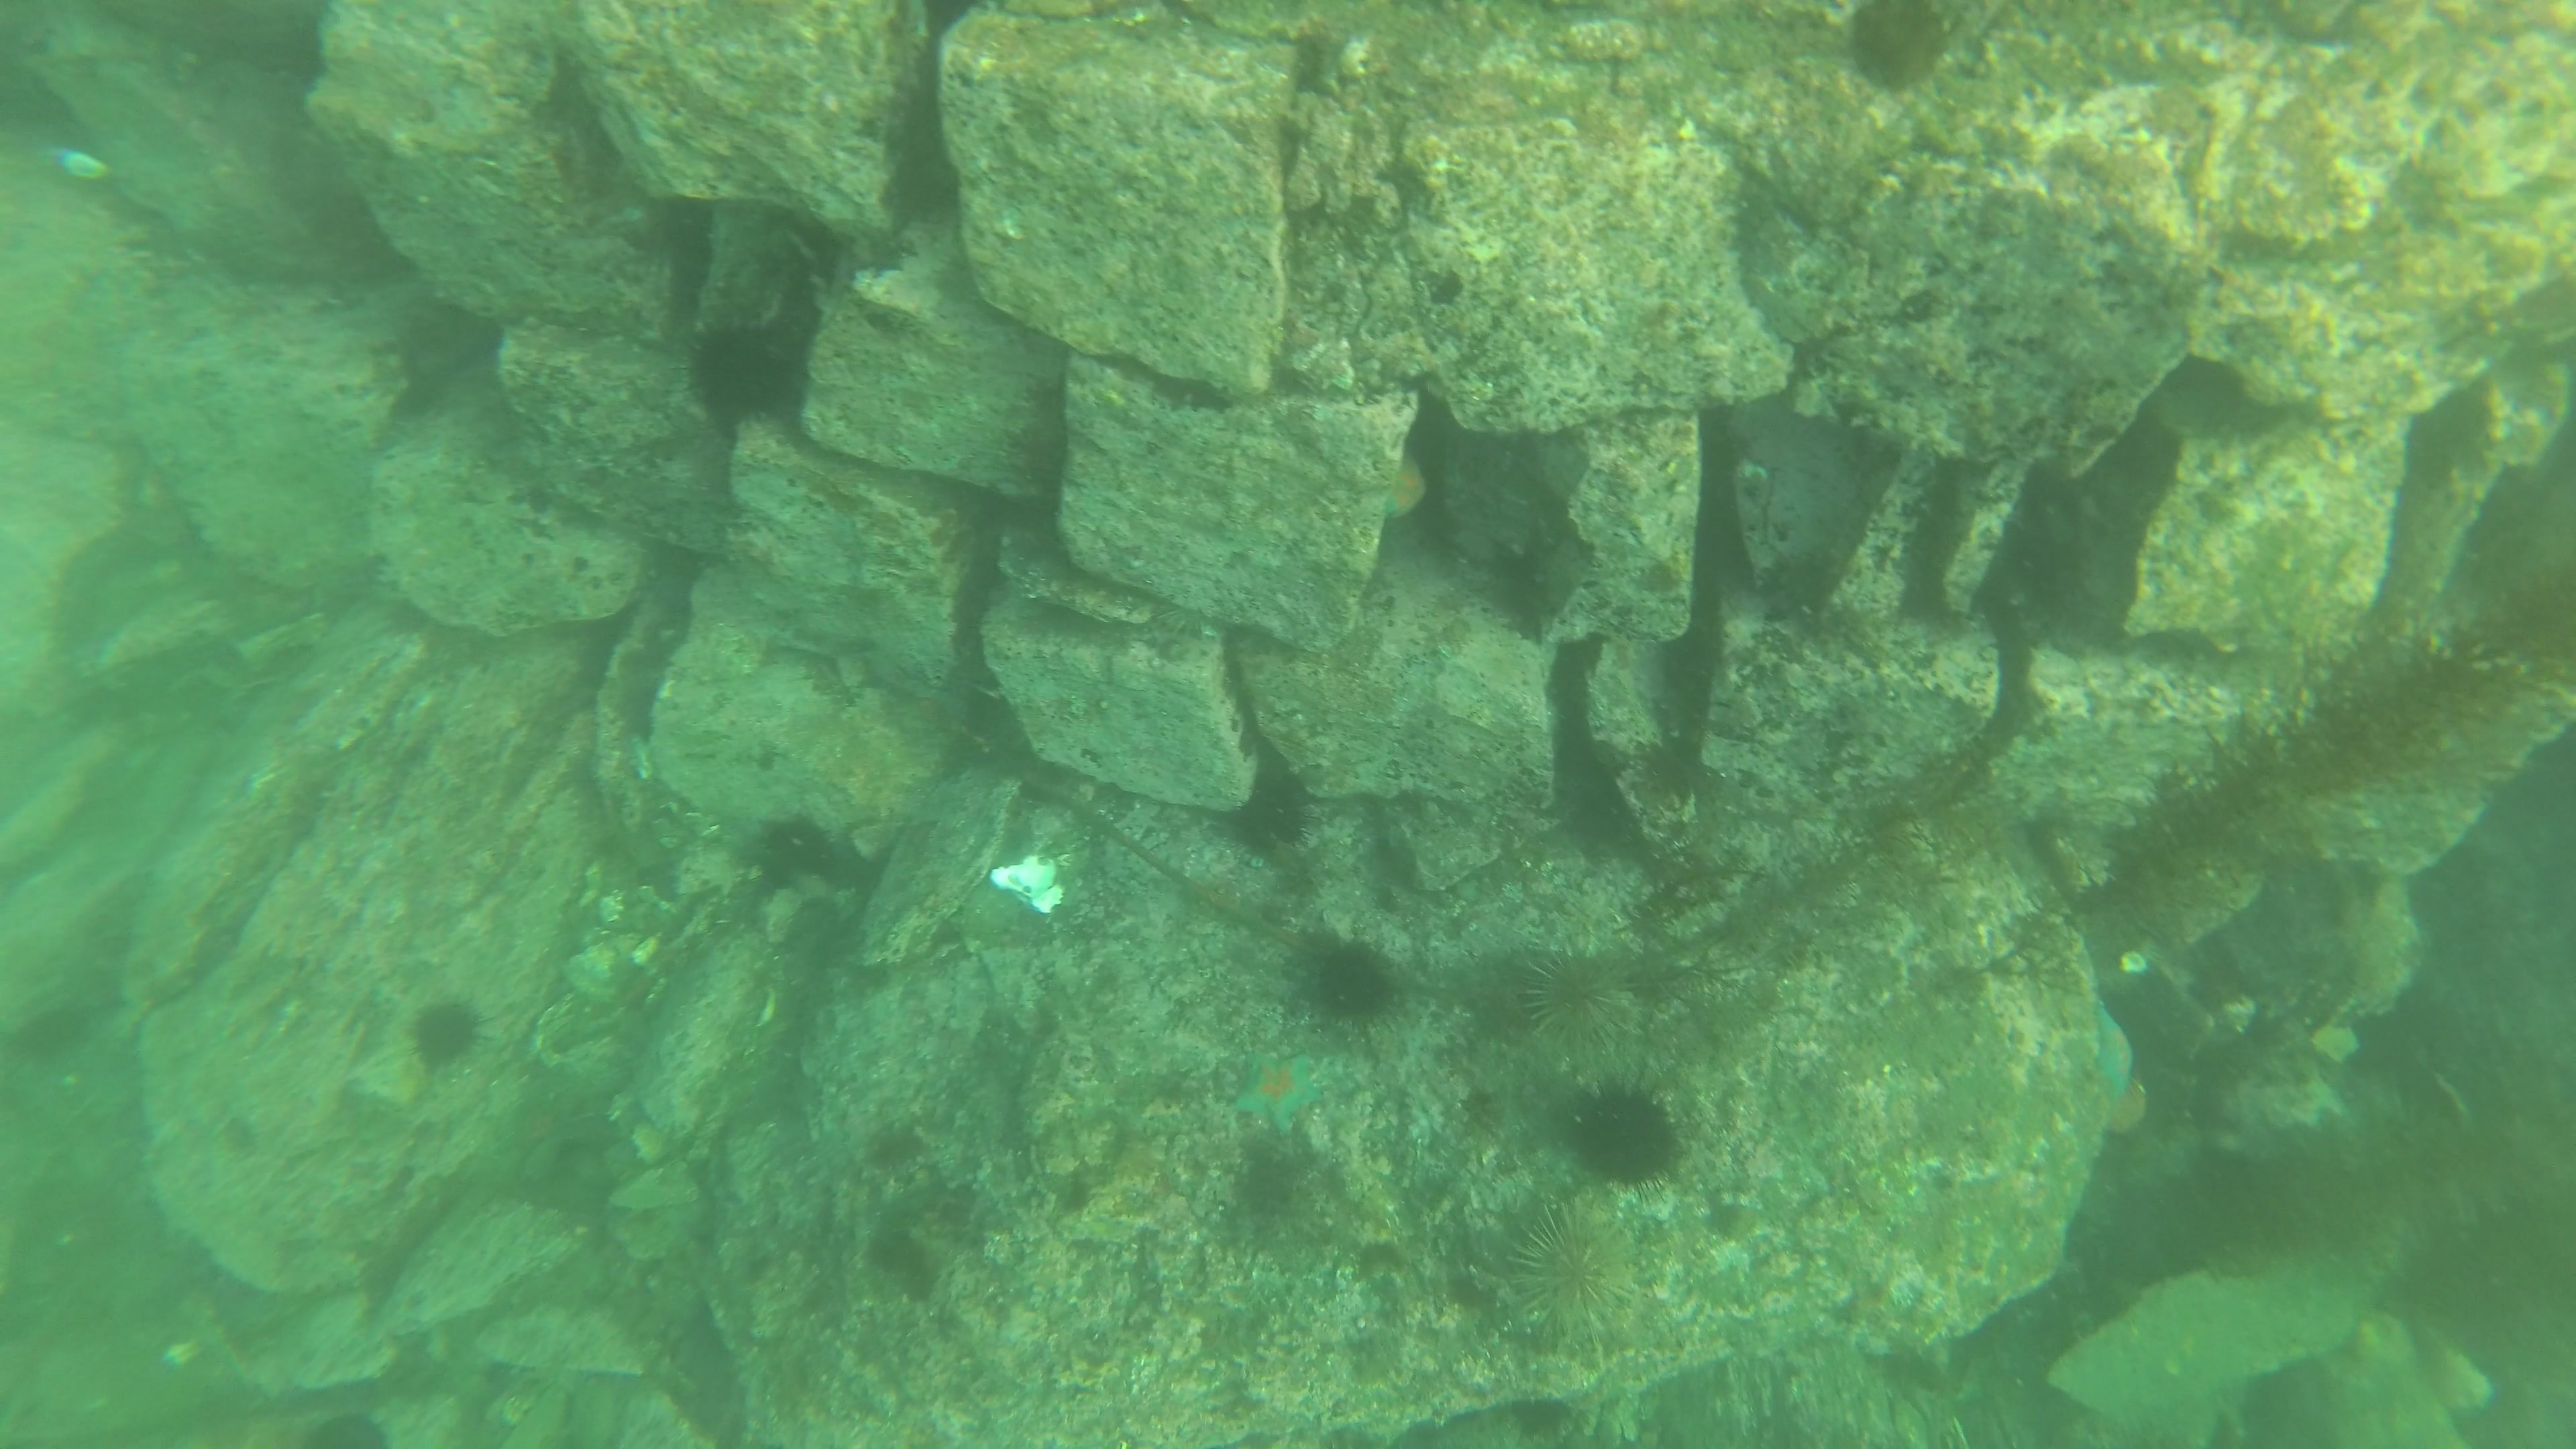echinus: (1497, 1194, 1654, 1353), (1513, 939, 1651, 1063), (1557, 1074, 1688, 1191), (679, 313, 807, 430), (1288, 925, 1407, 1031), (1221, 755, 1322, 862), (736, 805, 846, 897), (400, 989, 490, 1077)
starfish: (2075, 985, 2153, 1145), (1223, 1040, 1332, 1139), (1362, 418, 1438, 541)
